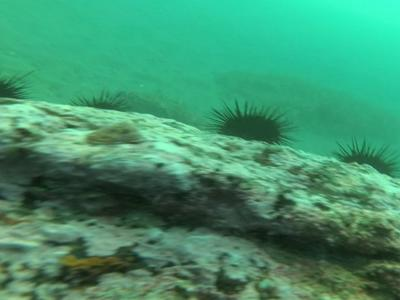urchin: (203, 98, 298, 145), (333, 136, 394, 180), (67, 89, 129, 113), (5, 70, 35, 100)
